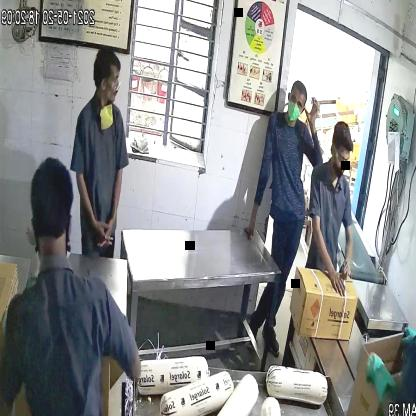goggles: (102, 74, 126, 92), (332, 148, 353, 168)
no_goggles: (285, 96, 308, 112)
